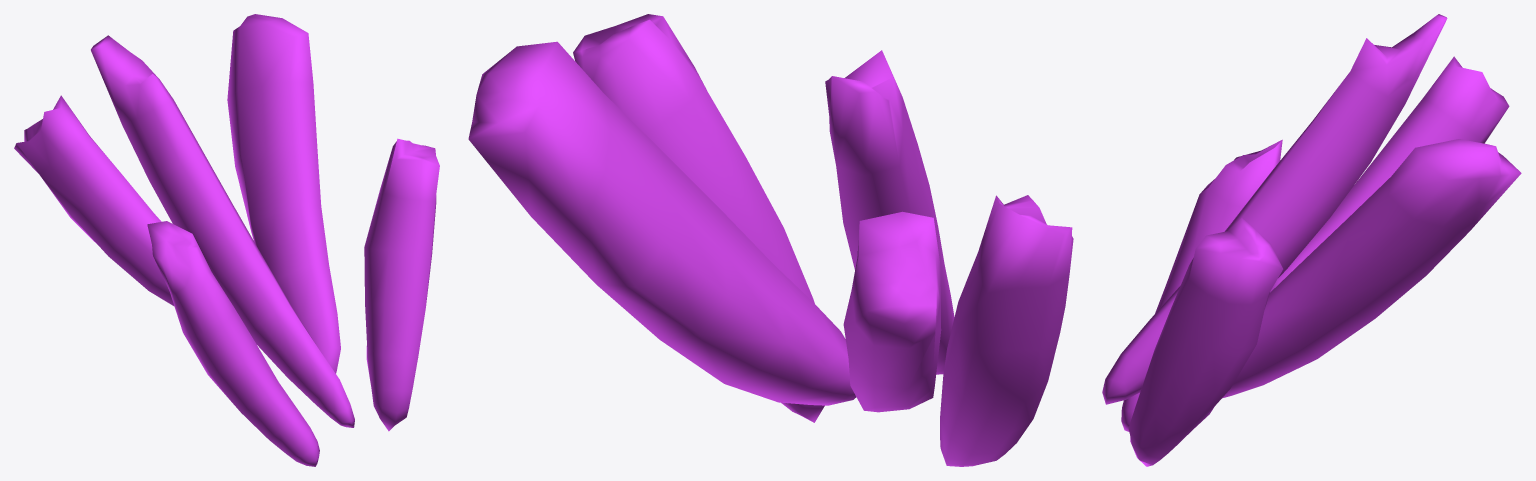
The model's file is SM_Thorn_01_Broken_F.FBX.
3 views of the same model, side by side, from view 1: azimuth 30°, elevation 25°; view 2: azimuth 150°, elevation 25°; view 3: azimuth 270°, elevation 25° (orthographic). The views are drawn at different scales.
Visible parts, largest first — view 1: Object004; view 2: Object004; view 3: Object004.
Boxes of the visible parts, <box> form: Object004: <box>14,14,439,466</box>; Object004: <box>468,14,1073,466</box>; Object004: <box>1102,14,1521,466</box>.
Bounding box in the file's own units: 495 × 520 × 522.
